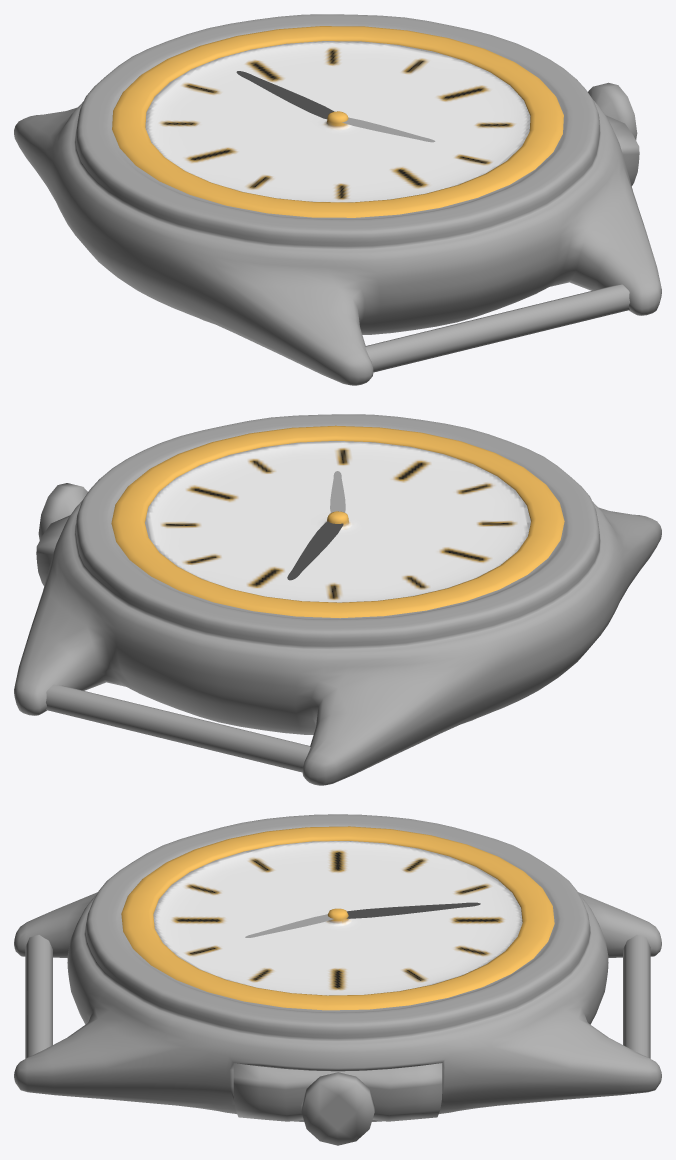
File: Chapter02_Watch.fbx
3 views of the same model, one above another, from view 1: azimuth 30°, elevation 25°; view 2: azimuth 150°, elevation 25°; view 3: azimuth 270°, elevation 25° (orthographic). The views are drawn at different scales.
Visible parts, largest first — view 1: Body.001, Face_OuterRing.001, USB.001, BigHand.001, LittleHand.001; view 2: Body.001, Face_OuterRing.001, USB.001, BigHand.001; view 3: Body.001, Face_OuterRing.001, USB.001, BigHand.001, LittleHand.001.
Boxes of the visible parts, box(x1,y1,x2,y2) form: Body.001: box(14, 14, 661, 385); Face_OuterRing.001: box(112, 26, 563, 217); USB.001: box(588, 82, 639, 185); BigHand.001: box(236, 71, 333, 119); LittleHand.001: box(342, 117, 435, 142); Body.001: box(14, 414, 661, 785); Face_OuterRing.001: box(111, 425, 564, 618); USB.001: box(36, 483, 87, 585); BigHand.001: box(287, 521, 343, 580); Body.001: box(14, 814, 661, 1121); Face_OuterRing.001: box(121, 826, 554, 1010); USB.001: box(233, 1063, 442, 1145); BigHand.001: box(346, 902, 480, 918); LittleHand.001: box(245, 914, 333, 937).
Bounding box in the file's own units: 604 × 148 × 673.
